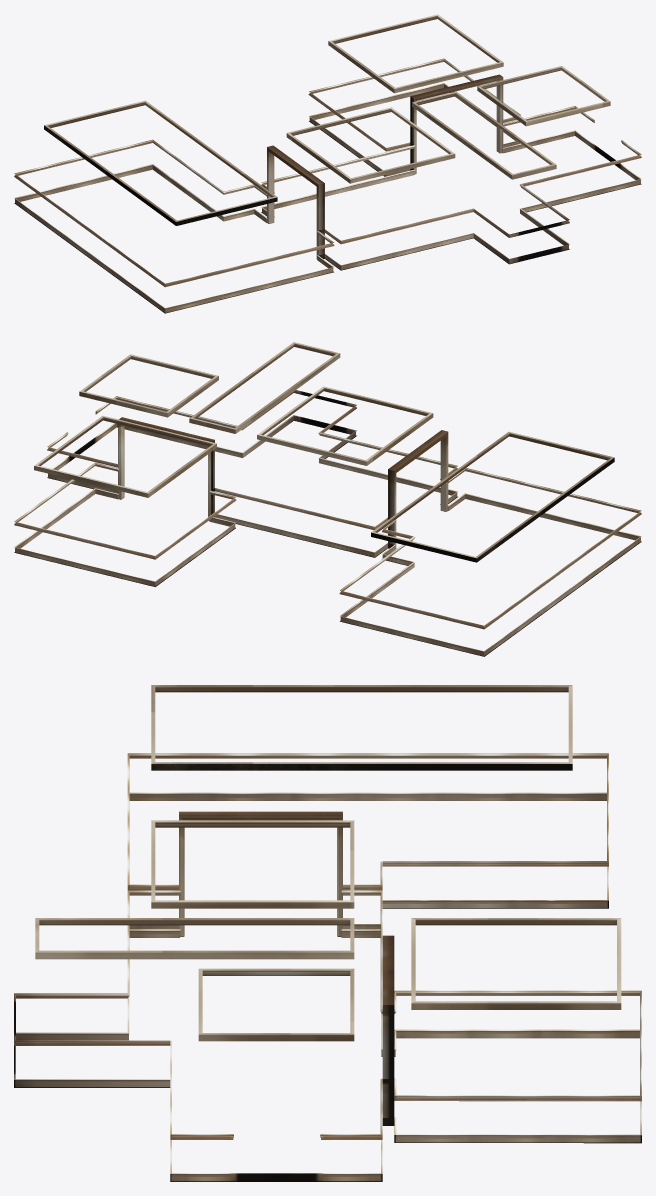
File: Museum_Floor_Cadding.FBX
3 views of the same model, one above another, from view 1: azimuth 30°, elevation 25°; view 2: azimuth 150°, elevation 25°; view 3: azimuth 270°, elevation 25° (orthographic). The views are drawn at different scales.
Parts seen in each view (by area): view 1: Museum_Floor_Cadding; view 2: Museum_Floor_Cadding; view 3: Museum_Floor_Cadding.
Boxes of the visible parts, x1=… form: Museum_Floor_Cadding: x1=14, y1=14, x2=641, y2=313; Museum_Floor_Cadding: x1=14, y1=342, x2=641, y2=656; Museum_Floor_Cadding: x1=14, y1=685, x2=641, y2=1181.
Size of the model in its own units: 15602 by 2480 by 10858.
1 material, 1 textured.
